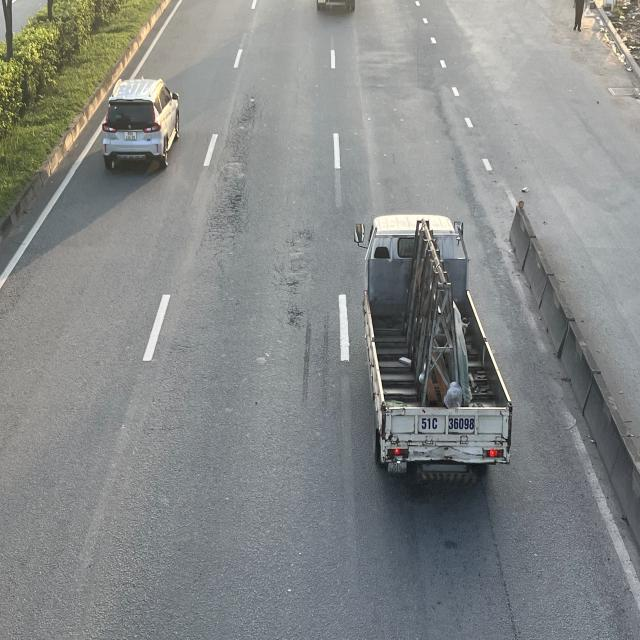car: (103, 80, 182, 175)
truck: (359, 214, 514, 483)
